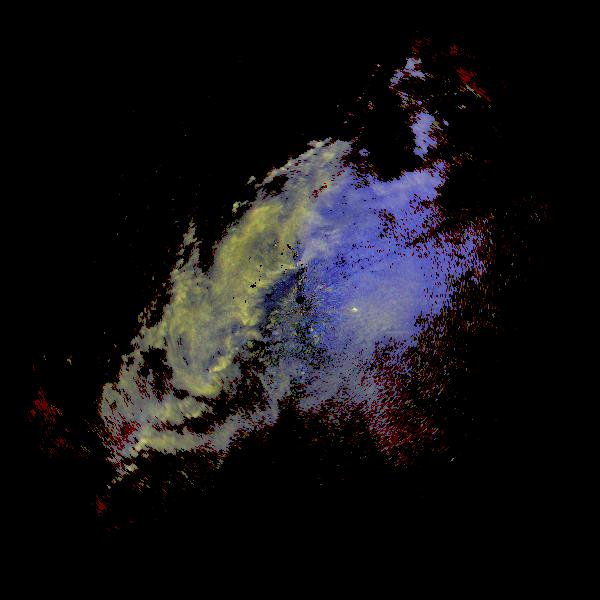roost: (299, 369, 308, 378), (351, 306, 360, 315)
